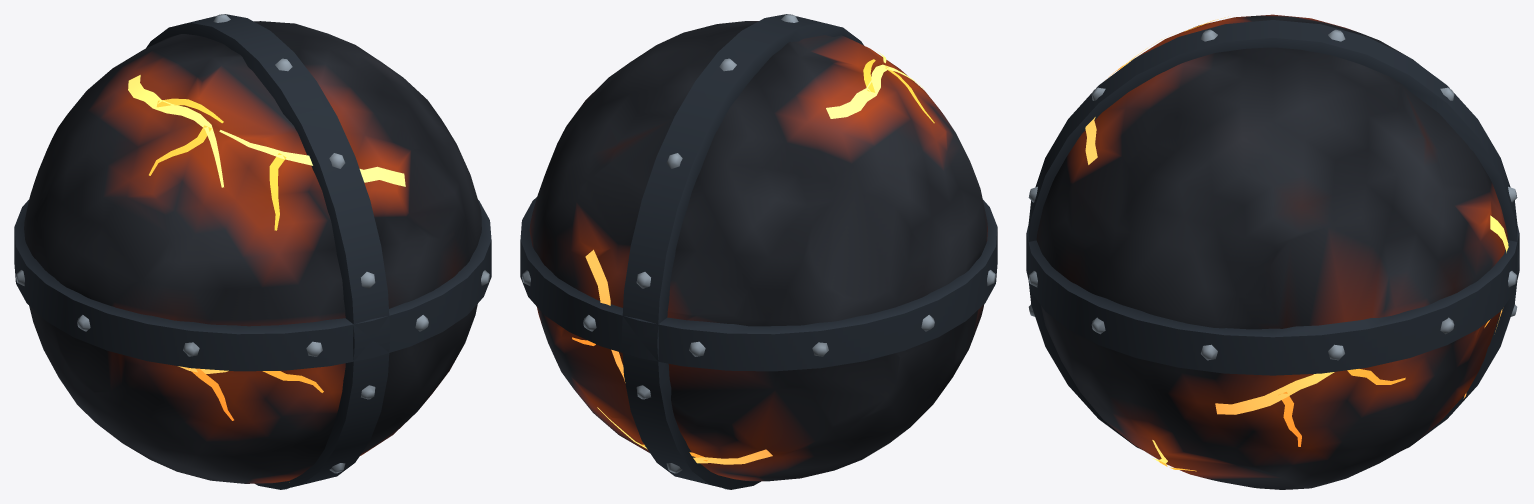
Rendered from boulder_forge.glb.
3 renders of one model, left to right at view 1: azimuth 30°, elevation 25°; view 2: azimuth 150°, elevation 25°; view 3: azimuth 270°, elevation 25°, orthographic. The views are drawn at different scales.
Visible parts, largest first — view 1: shell; view 2: shell; view 3: shell.
Boxes of the visible parts, x1,y1,x2,y2 form: shell: [14, 14, 491, 489]; shell: [520, 14, 997, 489]; shell: [1026, 14, 1519, 489].
Size of the model in its own units: 1.86 by 1.86 by 1.86.
